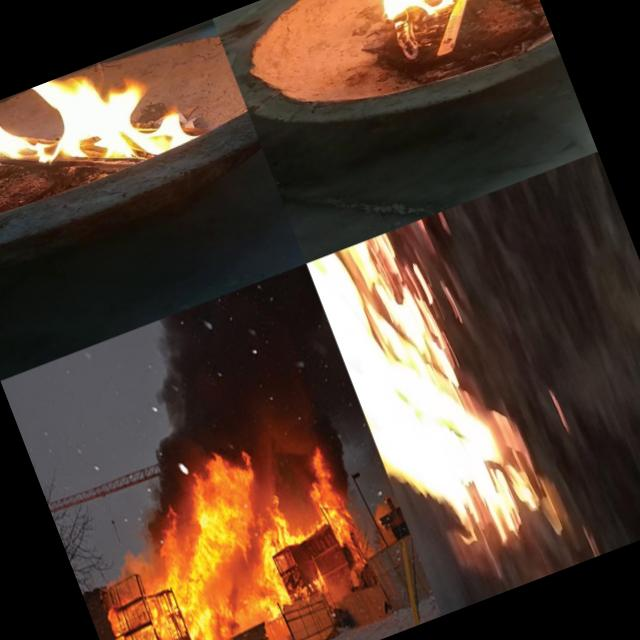fire: (307, 200, 564, 502), (160, 416, 380, 640), (0, 41, 192, 216), (70, 507, 228, 640), (350, 0, 489, 49)
smoke: (132, 264, 337, 410), (142, 342, 358, 474), (310, 408, 364, 496)
